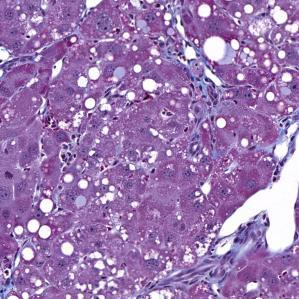fibrosis: (169, 38, 228, 109)
